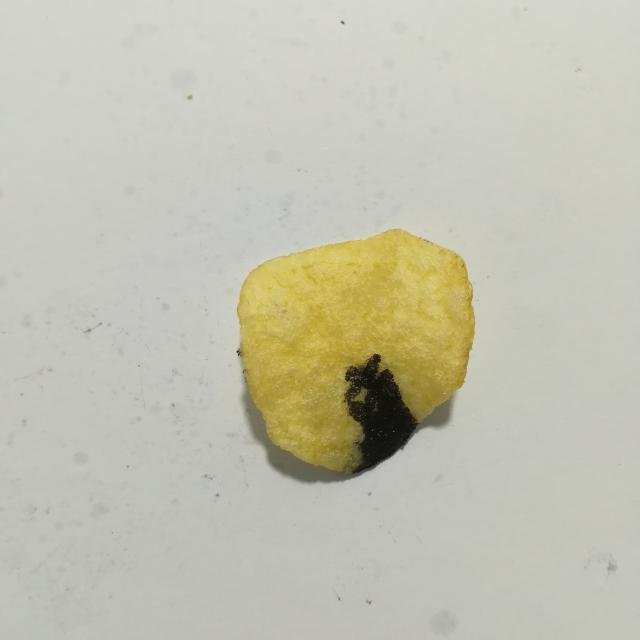chip: (237, 229, 475, 473)
damaged: (345, 354, 416, 472)
semi-damaged: (342, 427, 363, 474)
